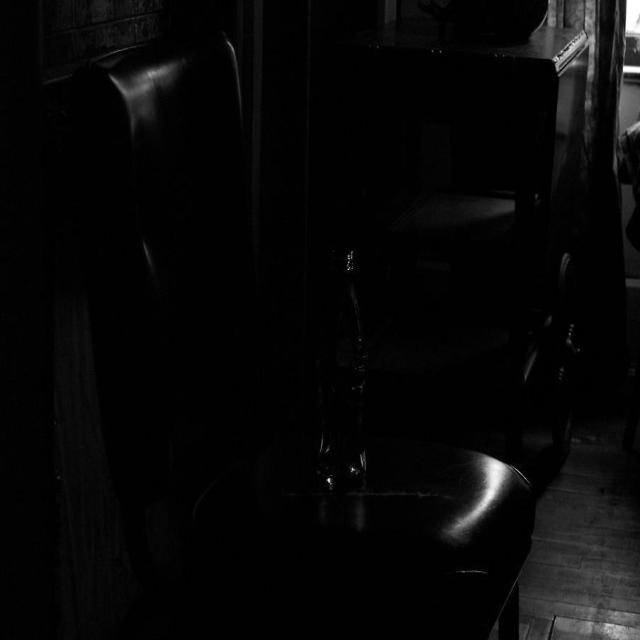Bottle: (321, 216, 368, 520)
chair: (81, 28, 519, 640), (391, 22, 566, 350)
